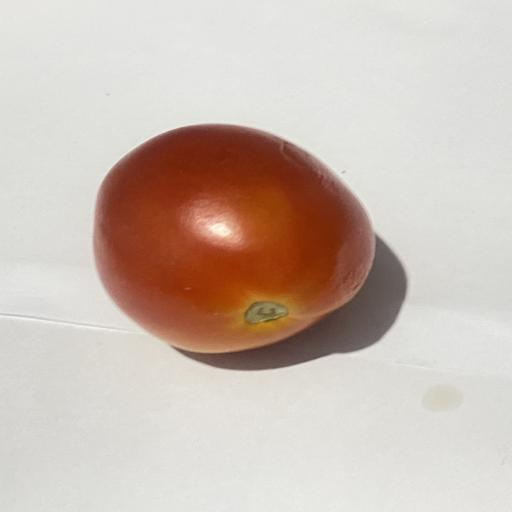ripe: (93, 124, 375, 353)
